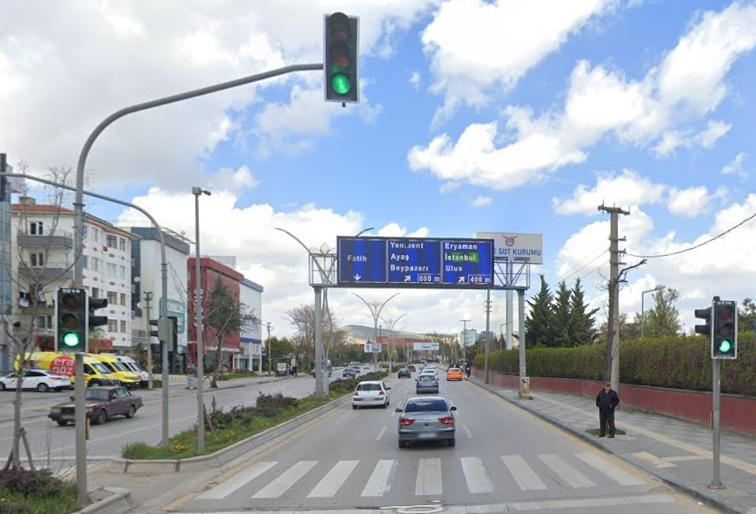greenlight: (326, 14, 359, 103), (56, 289, 84, 352), (715, 300, 738, 357)
